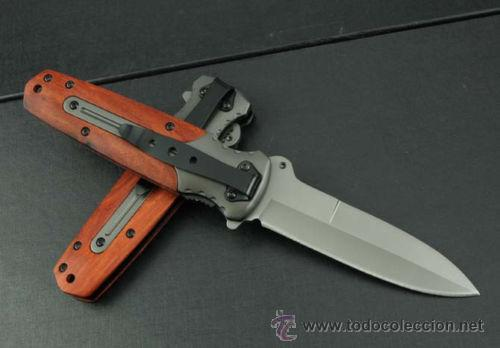knife: (262, 182, 485, 300)
